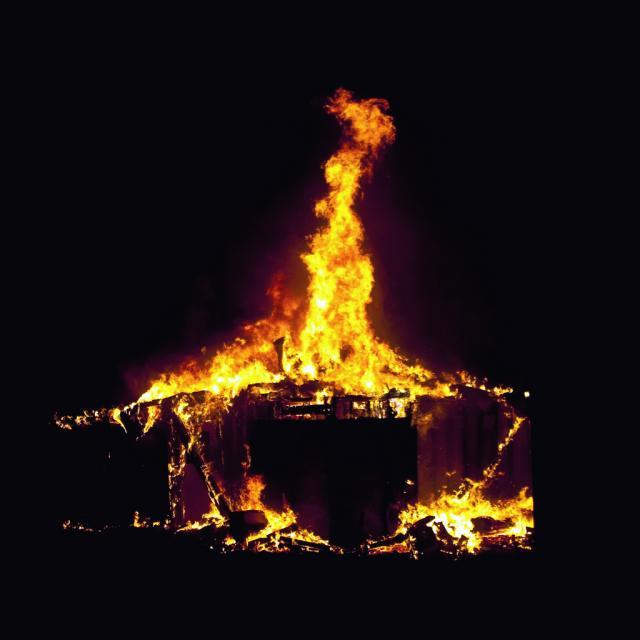Fire: (274, 241, 371, 381), (324, 108, 371, 226)
